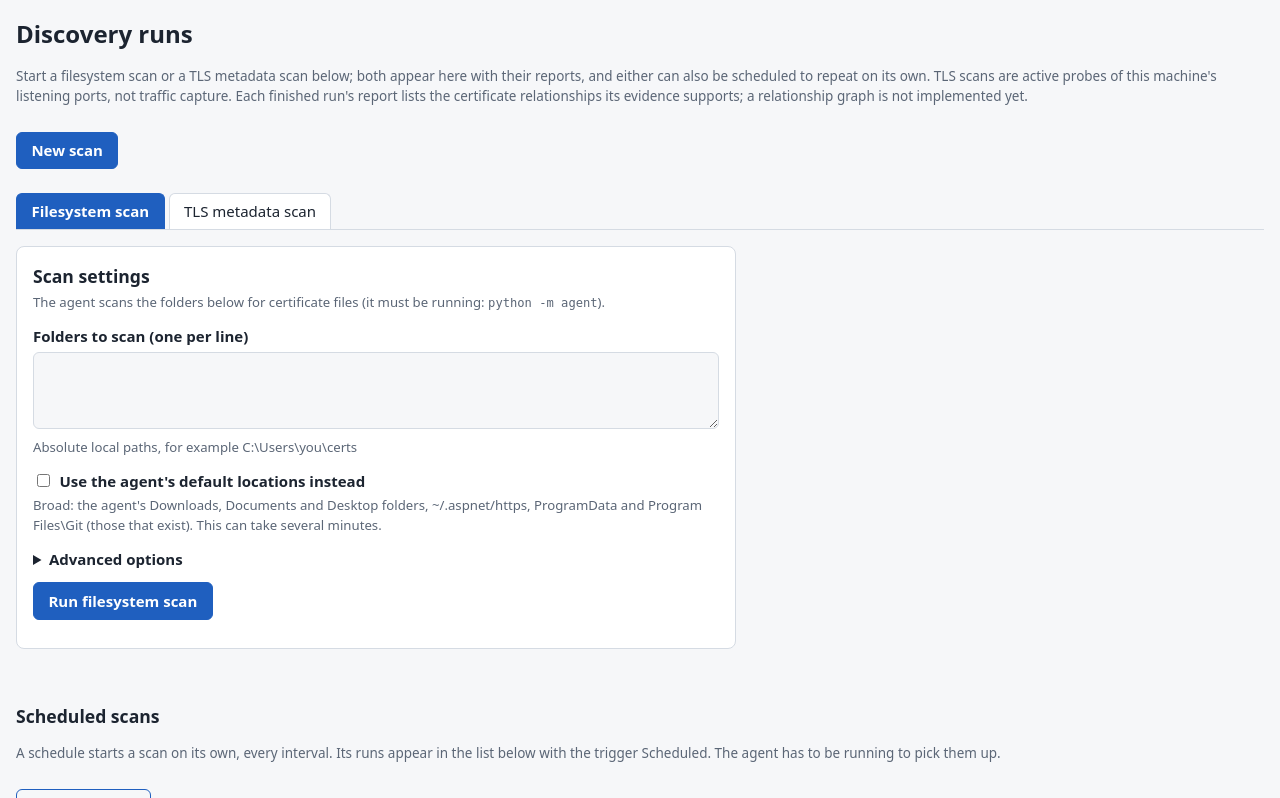
Test case: the scan form does not dominate the page › closes after a scan is created, so the new run is visible
Type "C:\\certs" into the text box labelled "Folders to scan (one per line)" at (376, 390), box 33,352 -> 719,429
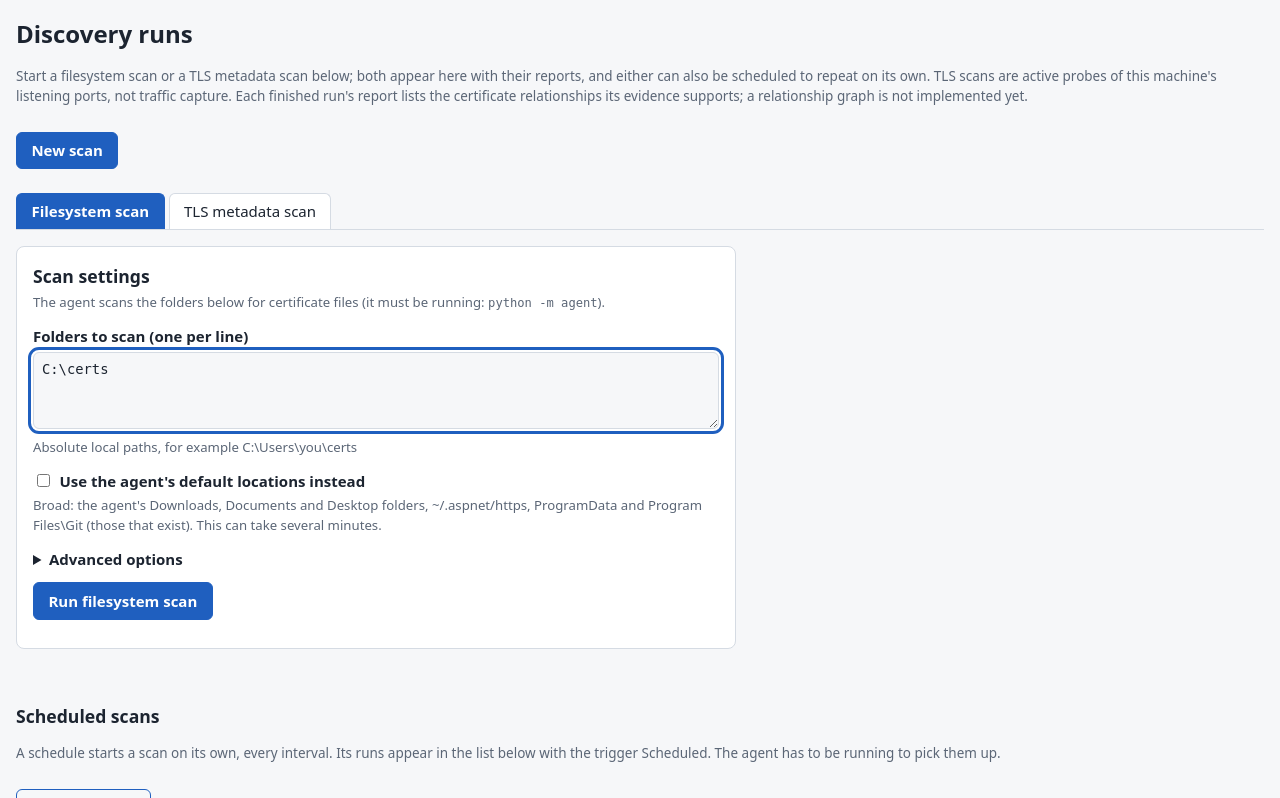
Click the button "Run filesystem scan" at (123, 601), box 33,582 -> 213,620
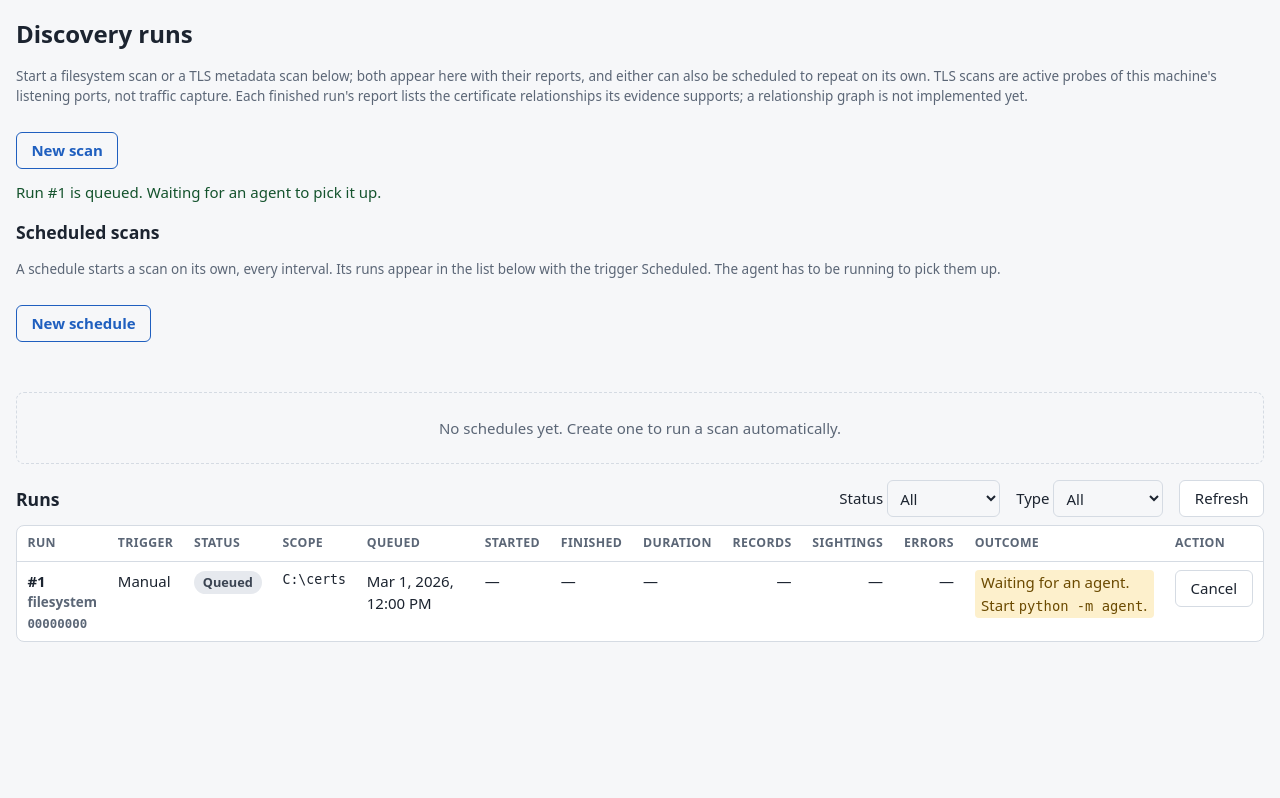
Expected: the text "Queued" is shown, 194,571 -> 262,594
